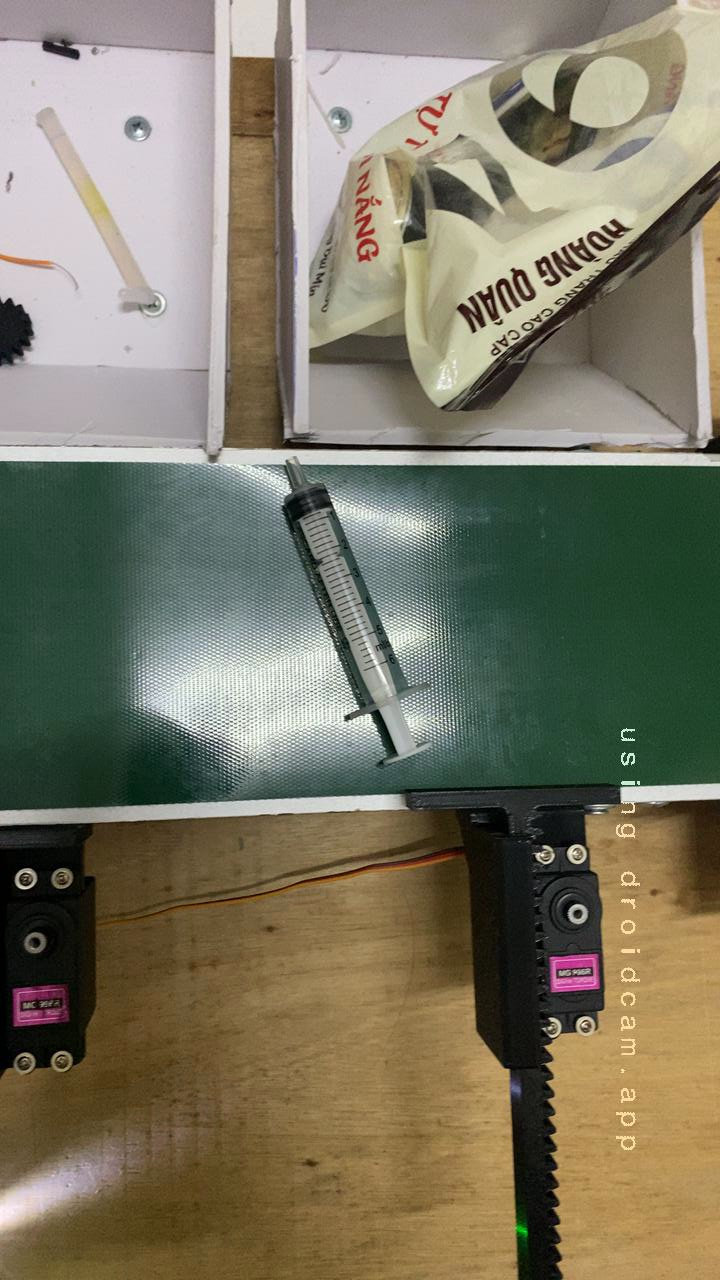syringe: (240, 477, 455, 781)
